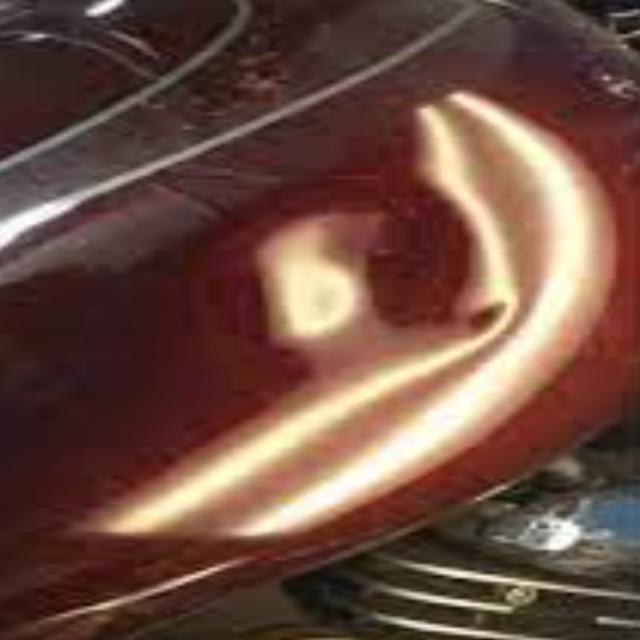dents: (233, 172, 572, 376)
